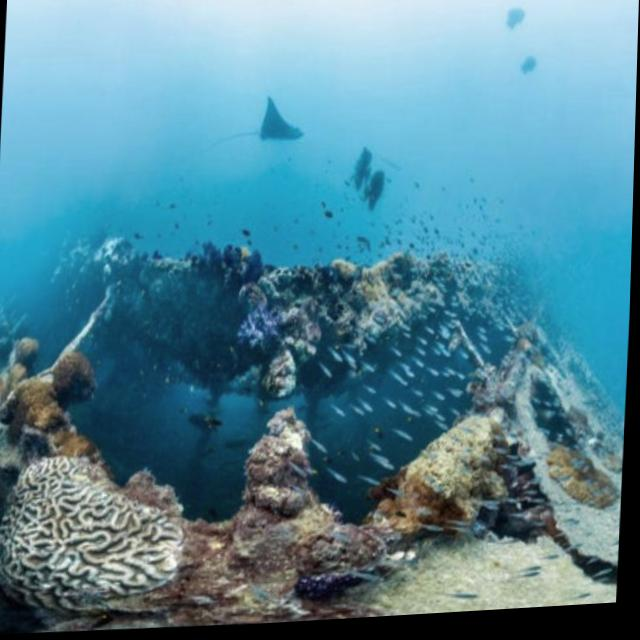Dead Coral: (0, 448, 204, 622)
